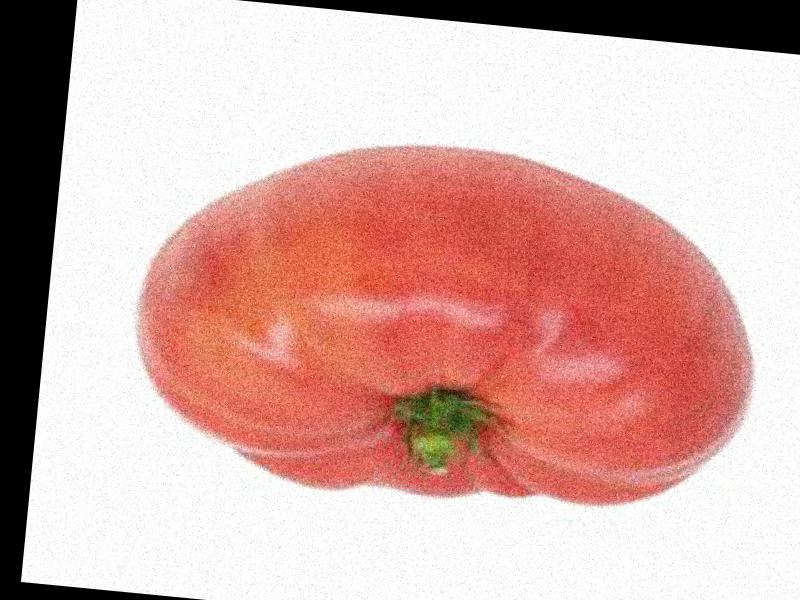Tomato: (122, 121, 769, 520)
